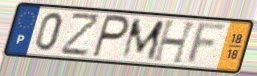0: (34, 11, 65, 54)
F: (183, 21, 230, 67)
H: (151, 19, 199, 66)
M: (119, 18, 167, 62)
P: (90, 13, 132, 60)
Z: (58, 13, 103, 58)
